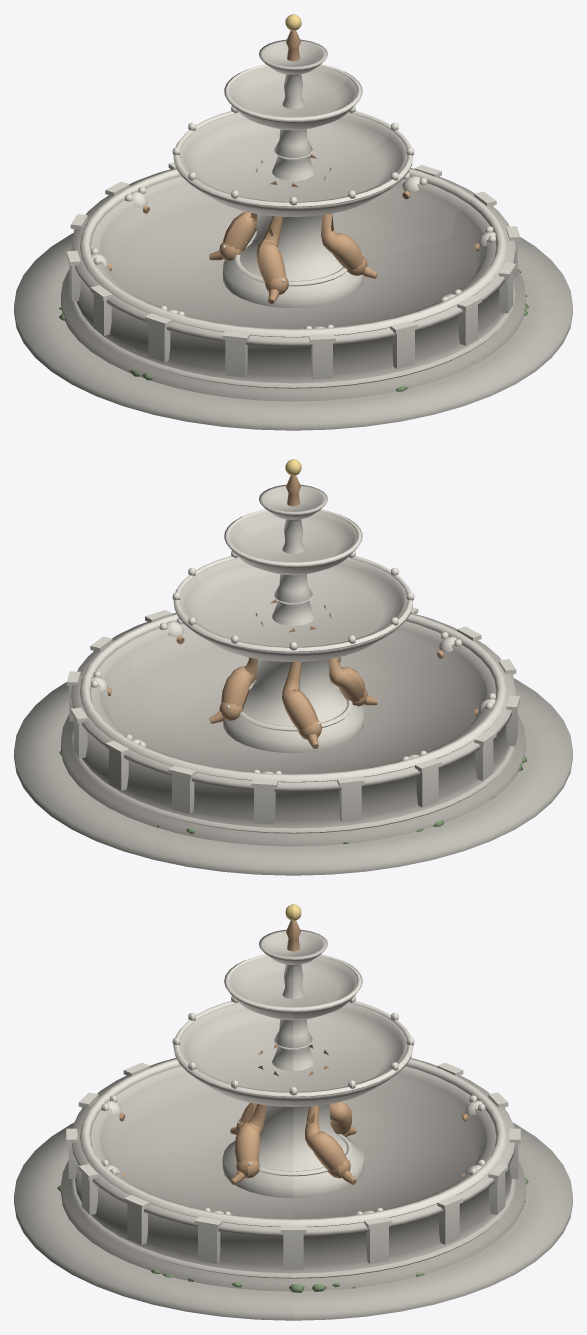
Rendered from brunnen.glb.
3 renders of one model, top to bottom at view 1: azimuth 30°, elevation 25°; view 2: azimuth 150°, elevation 25°; view 3: azimuth 270°, elevation 25°, orthographic.
Parts seen in each view (by area): view 1: G_brunnen; view 2: G_brunnen; view 3: G_brunnen.
Boxes of the visible parts, bbox=[...] form: G_brunnen: bbox=[14, 14, 572, 430]; G_brunnen: bbox=[14, 459, 572, 875]; G_brunnen: bbox=[14, 904, 572, 1320].
Bounding box in the file's own units: 8.7 × 5.11 × 8.7.
